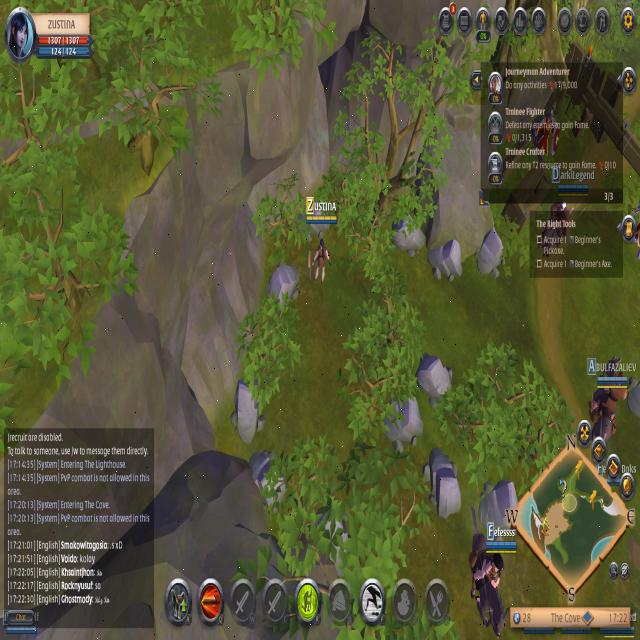stone: (383, 388, 426, 459), (228, 382, 268, 454), (428, 229, 471, 294), (264, 258, 302, 318), (416, 346, 454, 405), (481, 475, 517, 537), (425, 452, 458, 517), (476, 224, 506, 284), (250, 458, 286, 504), (395, 197, 420, 261)
